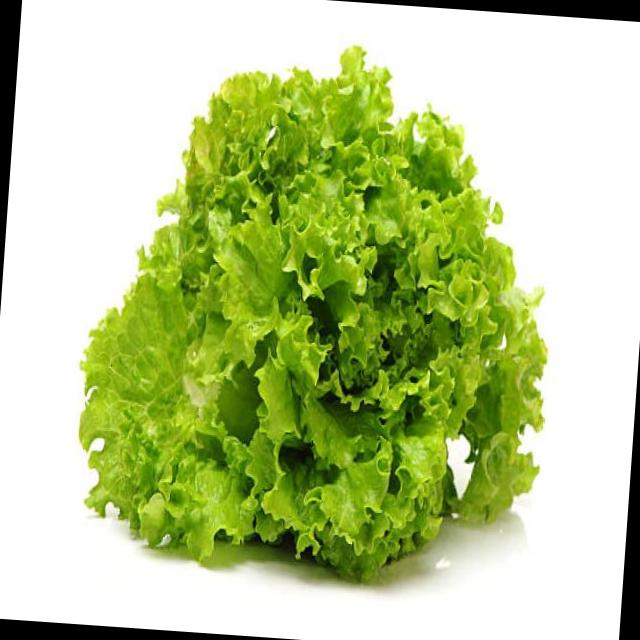Lettuce-Ready-to-Harvest: (79, 48, 546, 578)
